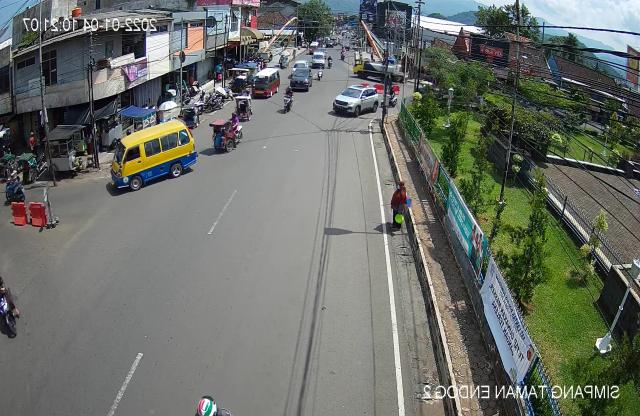Becak: (212, 110, 244, 155), (230, 89, 255, 122)
Mobil: (102, 117, 198, 202), (329, 82, 381, 121), (248, 68, 281, 104)
Motor: (280, 82, 298, 119)
